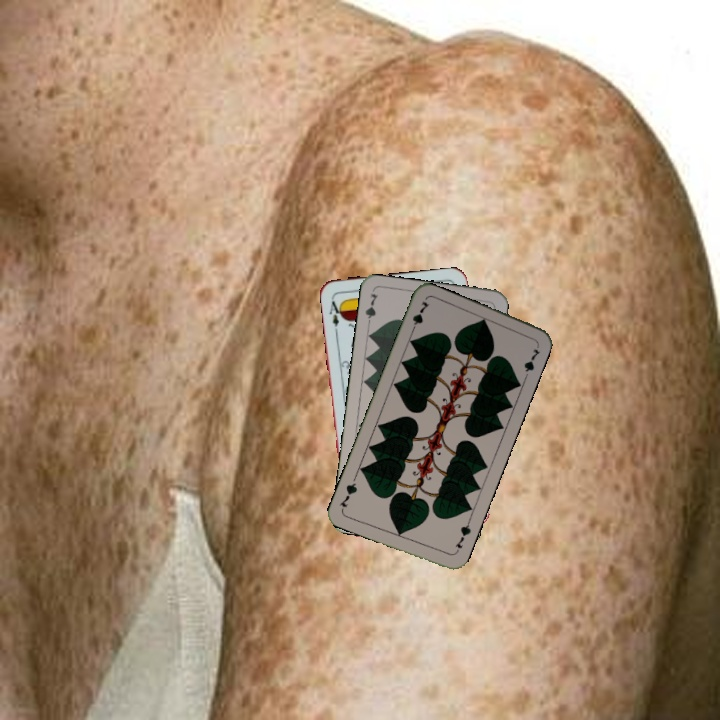EA: (325, 294, 345, 329)
G7: (407, 297, 432, 336), (450, 517, 474, 556), (361, 289, 381, 330)
